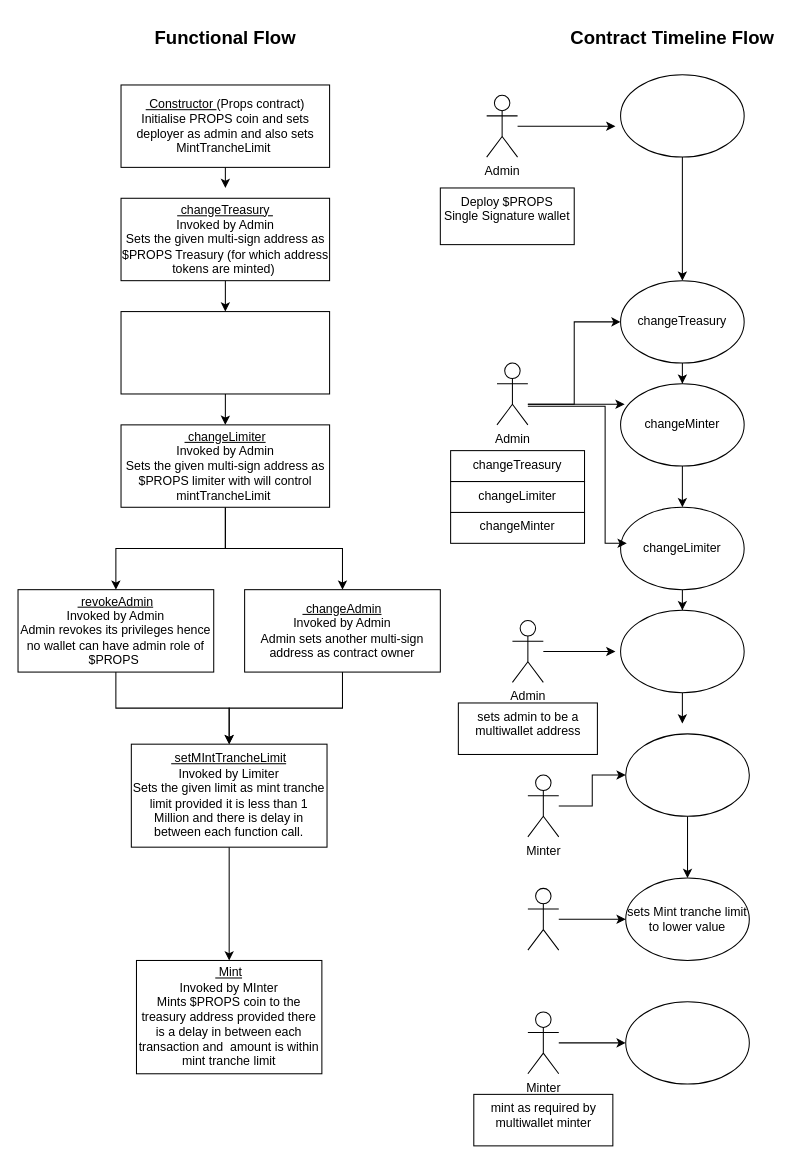
Some shapes in this 803 by 1164 pixel diagram are drawn without their labels. Each missing label, with the centre of its shape:
ChangeAdmin: (x=682, y=651)
changeMinter Invoked by Admin Sets the given multi-sign address as $PROPS Minter: (x=225, y=352)
Limiter: (x=543, y=918)
Mints $PROPS: (x=687, y=1042)
Mints $PROPS to Treasury: (x=687, y=774)
Props Deployment: (x=682, y=115)
